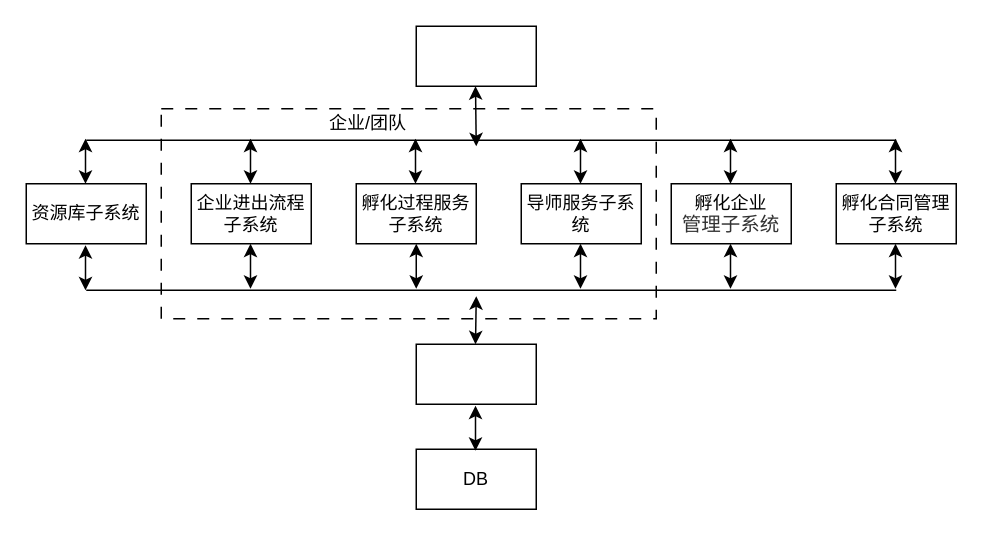
Image size: 983x536. Some labels were removed from this diagram. The shapes that lost their labels are listed below. From the top down, each one's box as (x1, y1, x2, y2) in pixels, then its label:
(415, 25, 536, 86): 应用UI
(415, 343, 536, 404): 后台扫描服务
